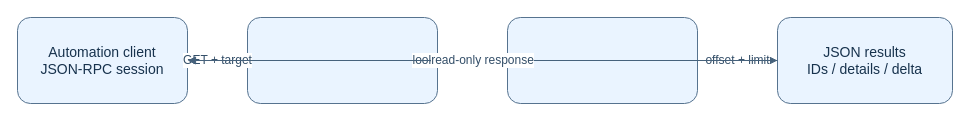
Some shapes in this 970 by 121 pixel diagram are drawn without their labels. Each missing label, with the centre of its shape:
FortiGuard IPS metadata service: the point at 602,60
FortiManager API /um/query/productapi: the point at 342,60
